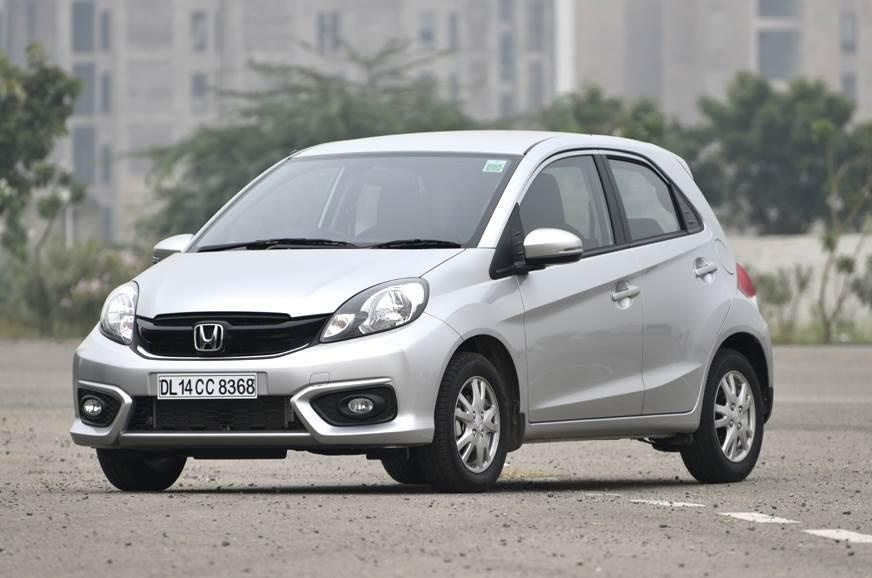plate: (155, 373, 260, 400)
